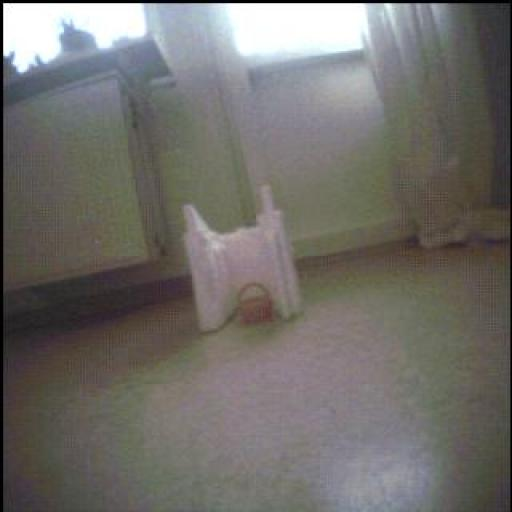Basket: (240, 283, 275, 326)
